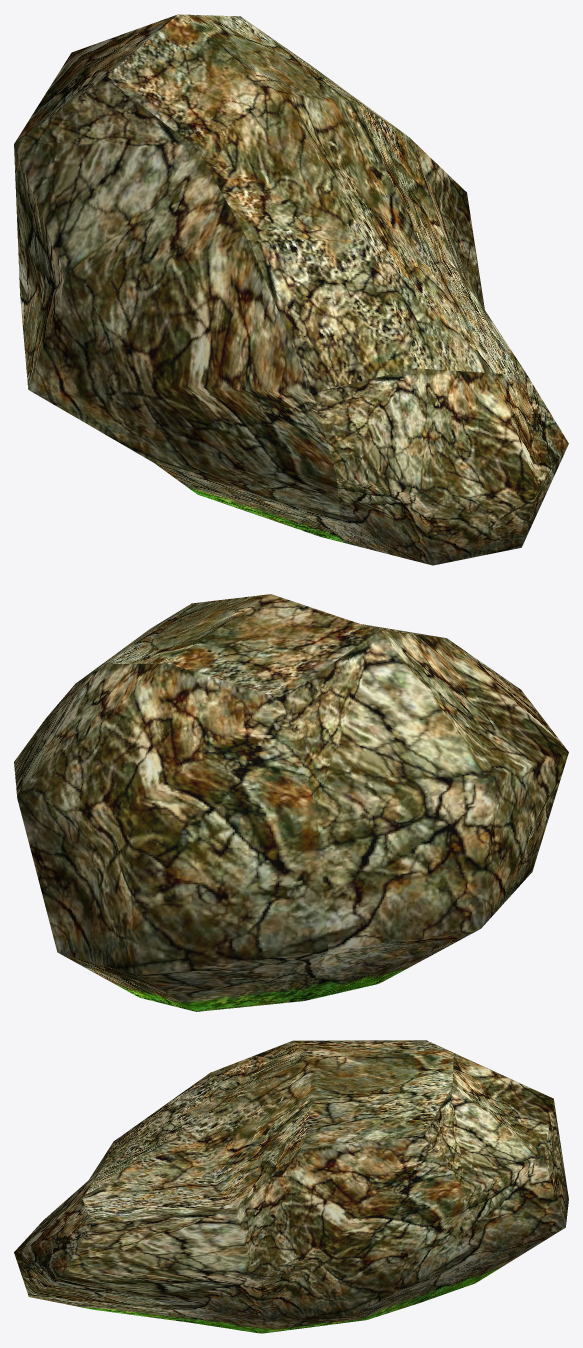
File: rock03.glb
3 renders of one model, top to bottom at view 1: azimuth 30°, elevation 25°; view 2: azimuth 150°, elevation 25°; view 3: azimuth 270°, elevation 25°, orthographic. The views are drawn at different scales.
Visible parts, largest first — view 1: rock03; view 2: rock03; view 3: rock03.
Part boxes in pixels (x1,y1,x2,y2): rock03: [14, 14, 568, 565]; rock03: [14, 594, 568, 1011]; rock03: [14, 1040, 568, 1333].
Size of the model in its own units: 4.33 by 3.29 by 6.81.
Materials: 2 (2 with a texture image).
